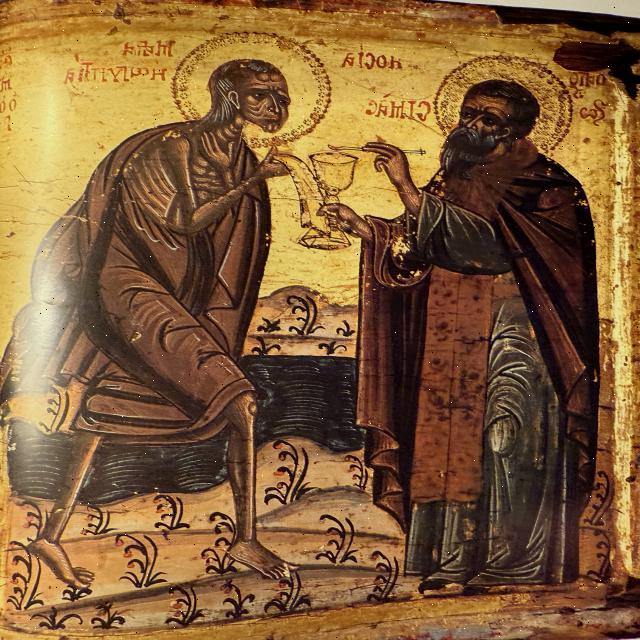aura: (171, 30, 331, 146), (431, 57, 579, 155)
chalice: (293, 152, 359, 250)
saint: (21, 32, 331, 570), (326, 52, 606, 599)
